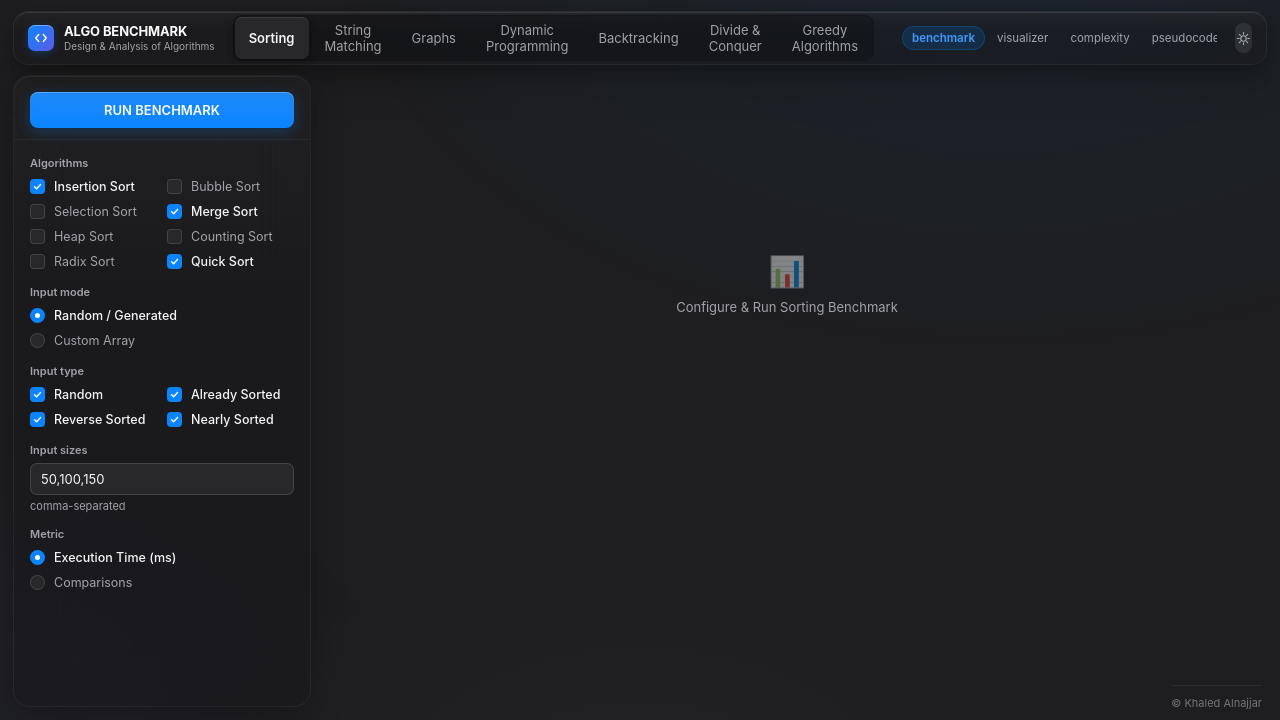
Test: App shell › exposes the DP debugger under the Dynamic Programming domain
Click the button "Dynamic Programming" at (527, 38), box [472,17,582,59]
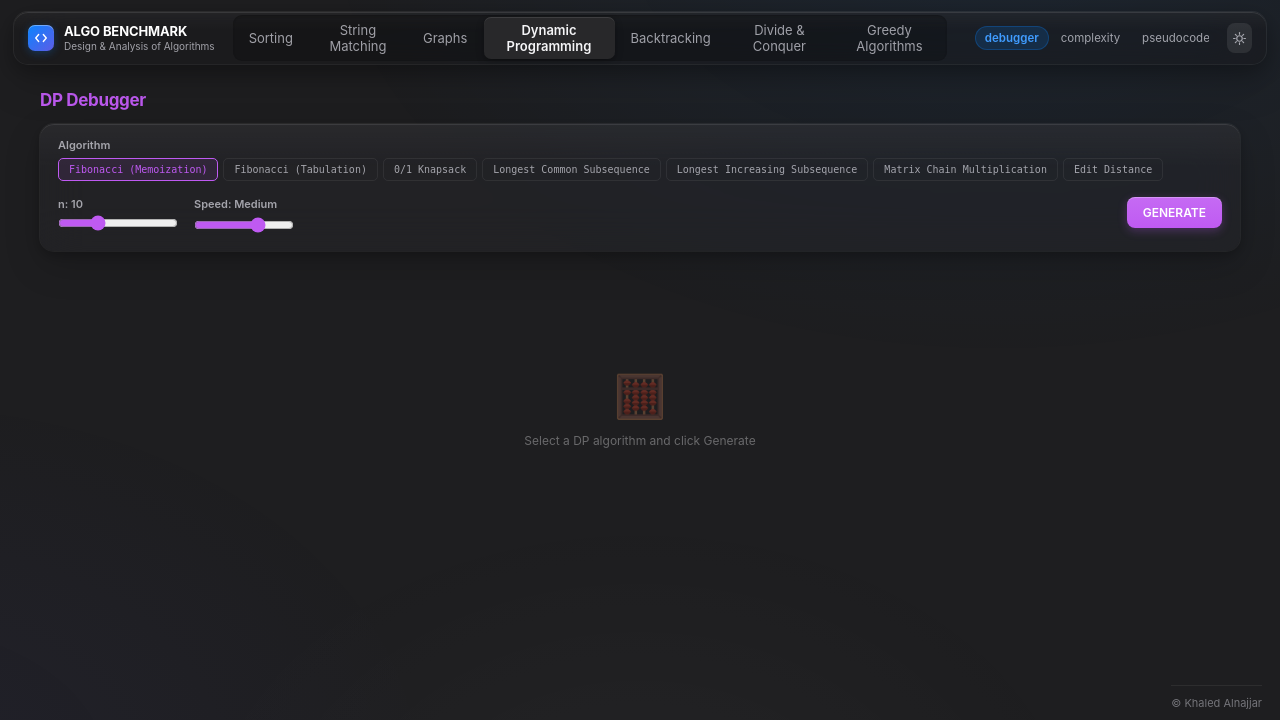
Expected: the text "DP Debugger" is shown, [40,90,146,110]
# Click GENERATE — Fibonacci tabulation is implemented
Click the button "GENERATE" at (1174, 212), box [1127,197,1222,228]
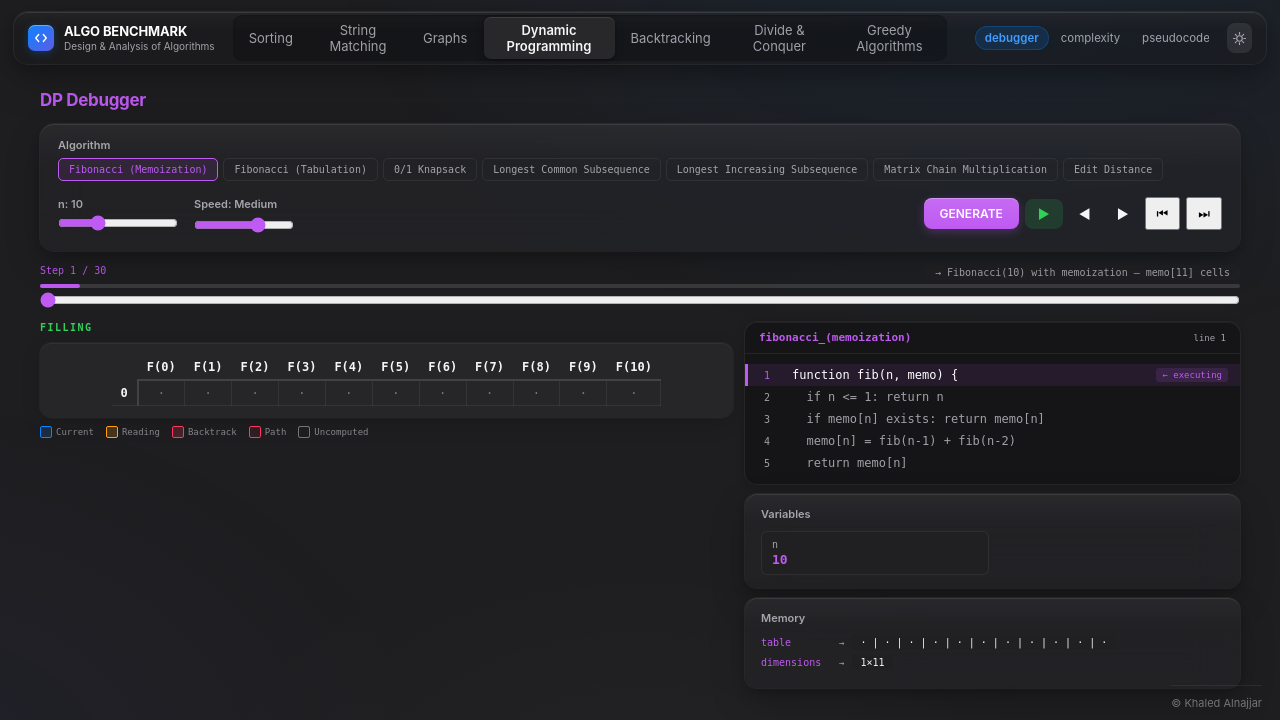
Expected: the text "Step 1 / 30" is shown, [40,265,106,280]
